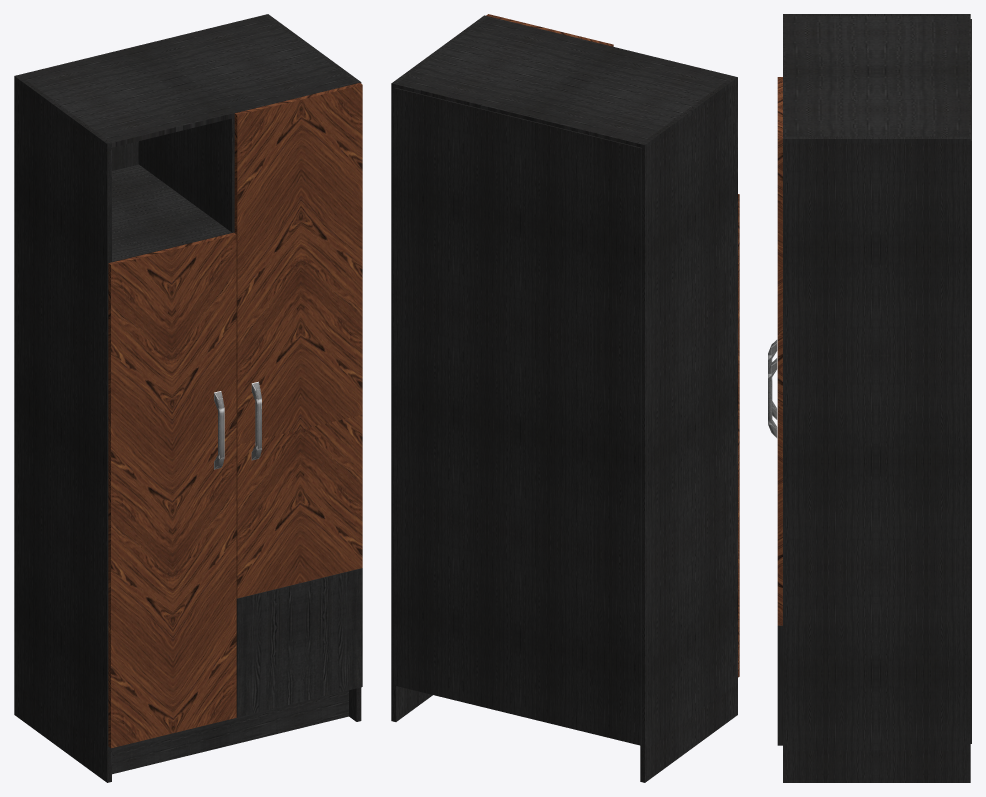
Rendered from guarda-roupa.glb.
3 renders of one model, left to right at view 1: azimuth 30°, elevation 25°; view 2: azimuth 150°, elevation 25°; view 3: azimuth 270°, elevation 25°, orthographic.
Visible parts, largest first — view 1: Box003, Box006, Box007 (×2), Box005, Box008 (×2), Box004, Box010, Box009; view 2: Box007, Box003, Box005, Box006; view 3: Box003, Box005, Box007 (×2), Box008, Box010.
Part boxes in pixels (x1,y1,x2,y2): Box003: (14, 14, 361, 782); Box006: (108, 232, 236, 748); Box007 (×2): (112, 83, 362, 598); Box005: (19, 15, 356, 147); Box008 (×2): (112, 568, 362, 774); Box004: (112, 118, 234, 262); Box010: (251, 381, 261, 460); Box009: (214, 391, 224, 469); Box007: (394, 88, 641, 745); Box003: (391, 15, 737, 782); Box005: (396, 16, 732, 147); Box006: (738, 194, 739, 677); Box003: (783, 14, 970, 782); Box005: (783, 16, 970, 136); Box007 (×2): (777, 19, 971, 743); Box008: (777, 625, 782, 745); Box010: (768, 358, 777, 438).
Bounding box in the file's own units: 22.4 × 53.86 × 15.45.
Materials: 11 (11 with a texture image).
